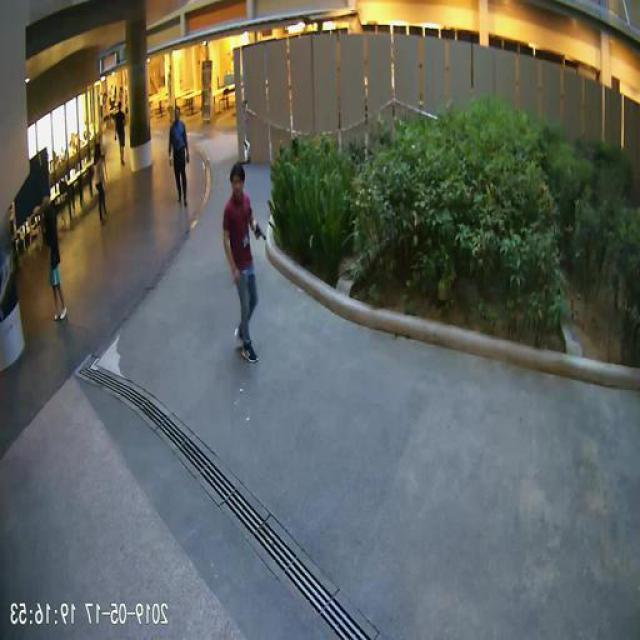Gun: (258, 222, 268, 238)
